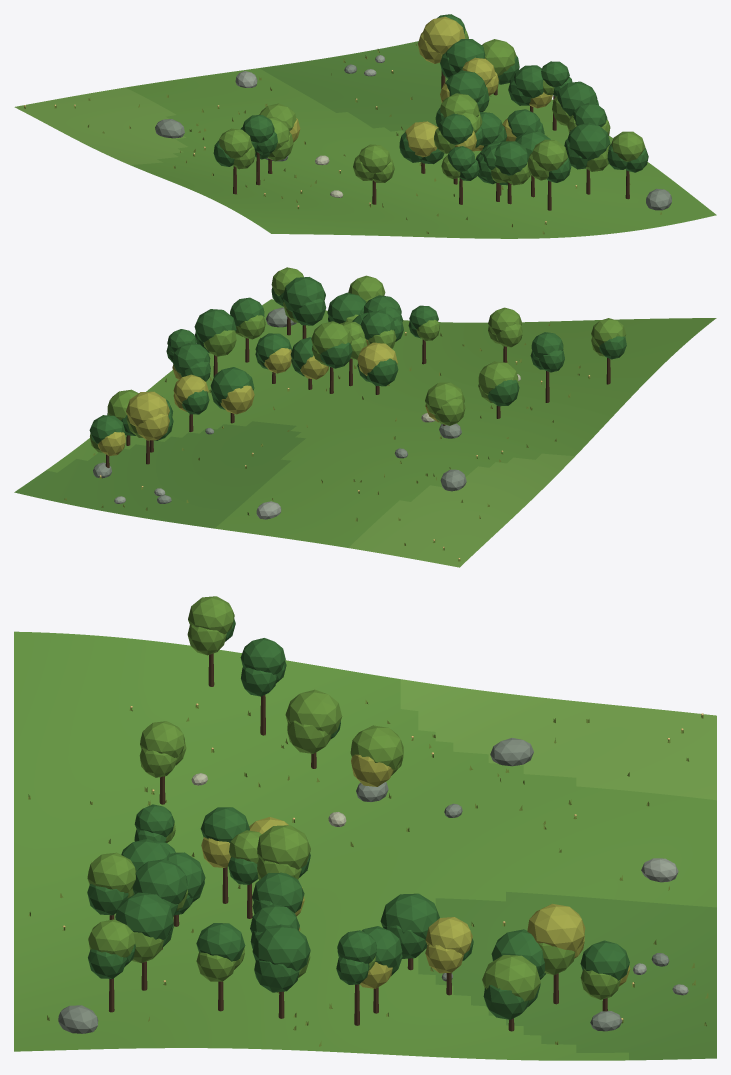
File: Chunk_X-1_Y0_Z2.fbx
The picture shows the model from 3 angles, top to bottom: view 1: azimuth 30°, elevation 25°; view 2: azimuth 150°, elevation 25°; view 3: azimuth 270°, elevation 25°; orthographic projection. The views are drawn at different scales.
Parts seen in each view (by area): view 1: Terrain.019, Canopies.019, Rocks.019, Trunks.019, GroundCover.019; view 2: Terrain.019, Canopies.019, Rocks.019, Trunks.019, GroundCover.019; view 3: Terrain.019, Canopies.019, Rocks.019, Trunks.019, GroundCover.019.
Part boxes in pixels (x1,y1,x2,y2): Terrain.019: (14,41,716,238); Canopies.019: (213,14,648,185); Rocks.019: (155,55,671,210); Trunks.019: (233,70,629,210); GroundCover.019: (24,43,661,234); Terrain.019: (14,299,716,567); Canopies.019: (89,267,626,456); Rocks.019: (93,307,520,519); Trunks.019: (105,316,610,467); GroundCover.019: (64,322,590,561); Terrain.019: (14,631,716,1060); Canopies.019: (87,596,630,1019); Rocks.019: (58,738,688,1033); Trunks.019: (109,653,607,1031); GroundCover.019: (28,700,708,1046).
Bounding box in the file's own units: 100 × 30.23 × 100.
